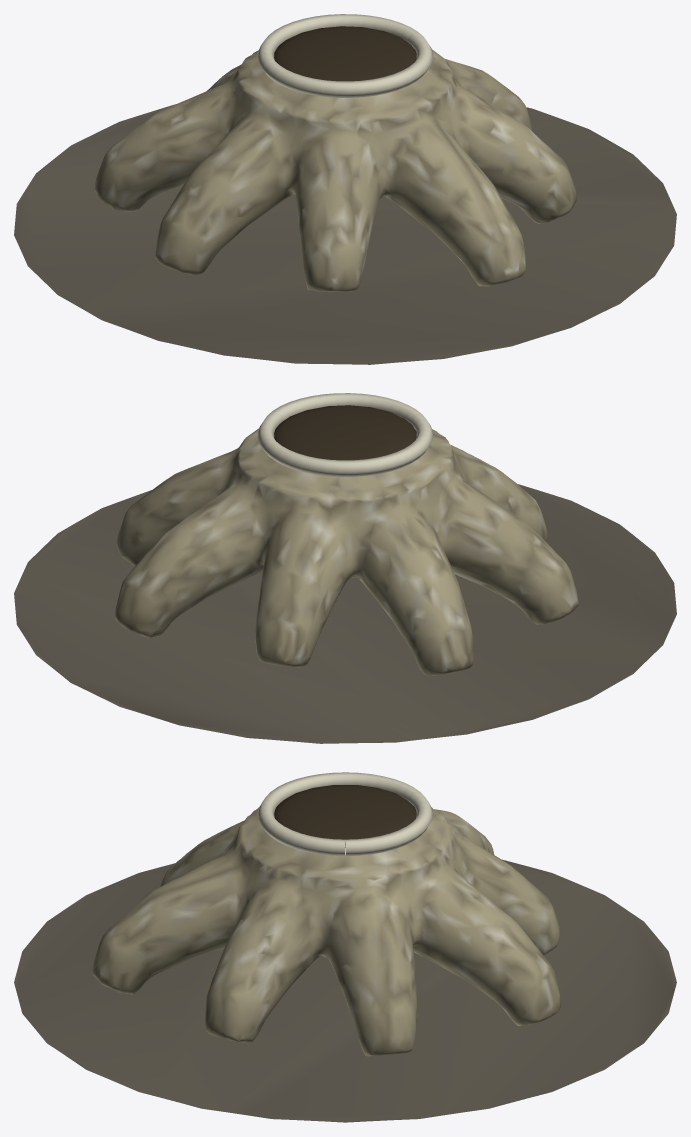
Rendered from BrachiospongiaDigitata.fbx.
3 views of the same model, one above another, from view 1: azimuth 30°, elevation 25°; view 2: azimuth 150°, elevation 25°; view 3: azimuth 270°, elevation 25° (orthographic).
Visible parts, largest first — view 1: BrachiospongiaDigitata; view 2: BrachiospongiaDigitata; view 3: BrachiospongiaDigitata.
Part boxes in pixels (x1=…): BrachiospongiaDigitata: x1=14, y1=14, x2=676, y2=364; BrachiospongiaDigitata: x1=14, y1=393, x2=676, y2=743; BrachiospongiaDigitata: x1=14, y1=772, x2=676, y2=1122.
Size of the model in its own units: 2 by 0.582 by 2.
